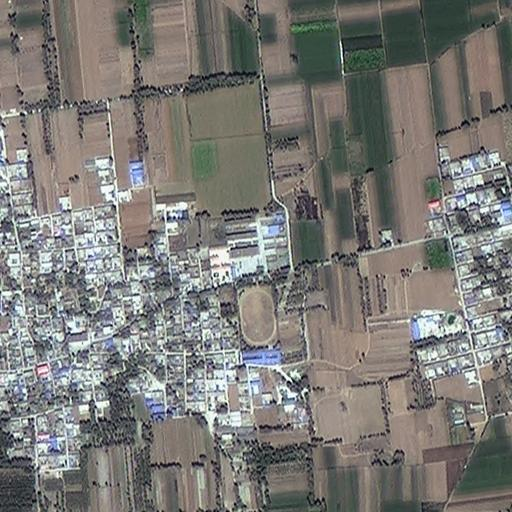school: (227, 204, 289, 347)
